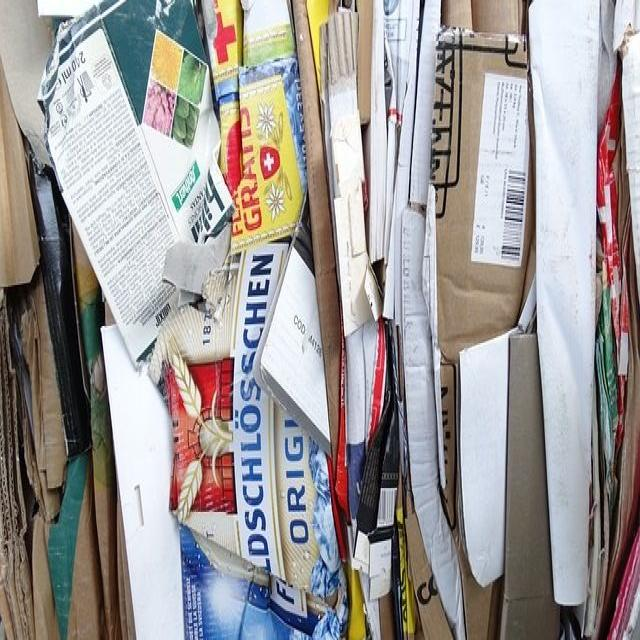Kertas: (32, 22, 632, 584)
